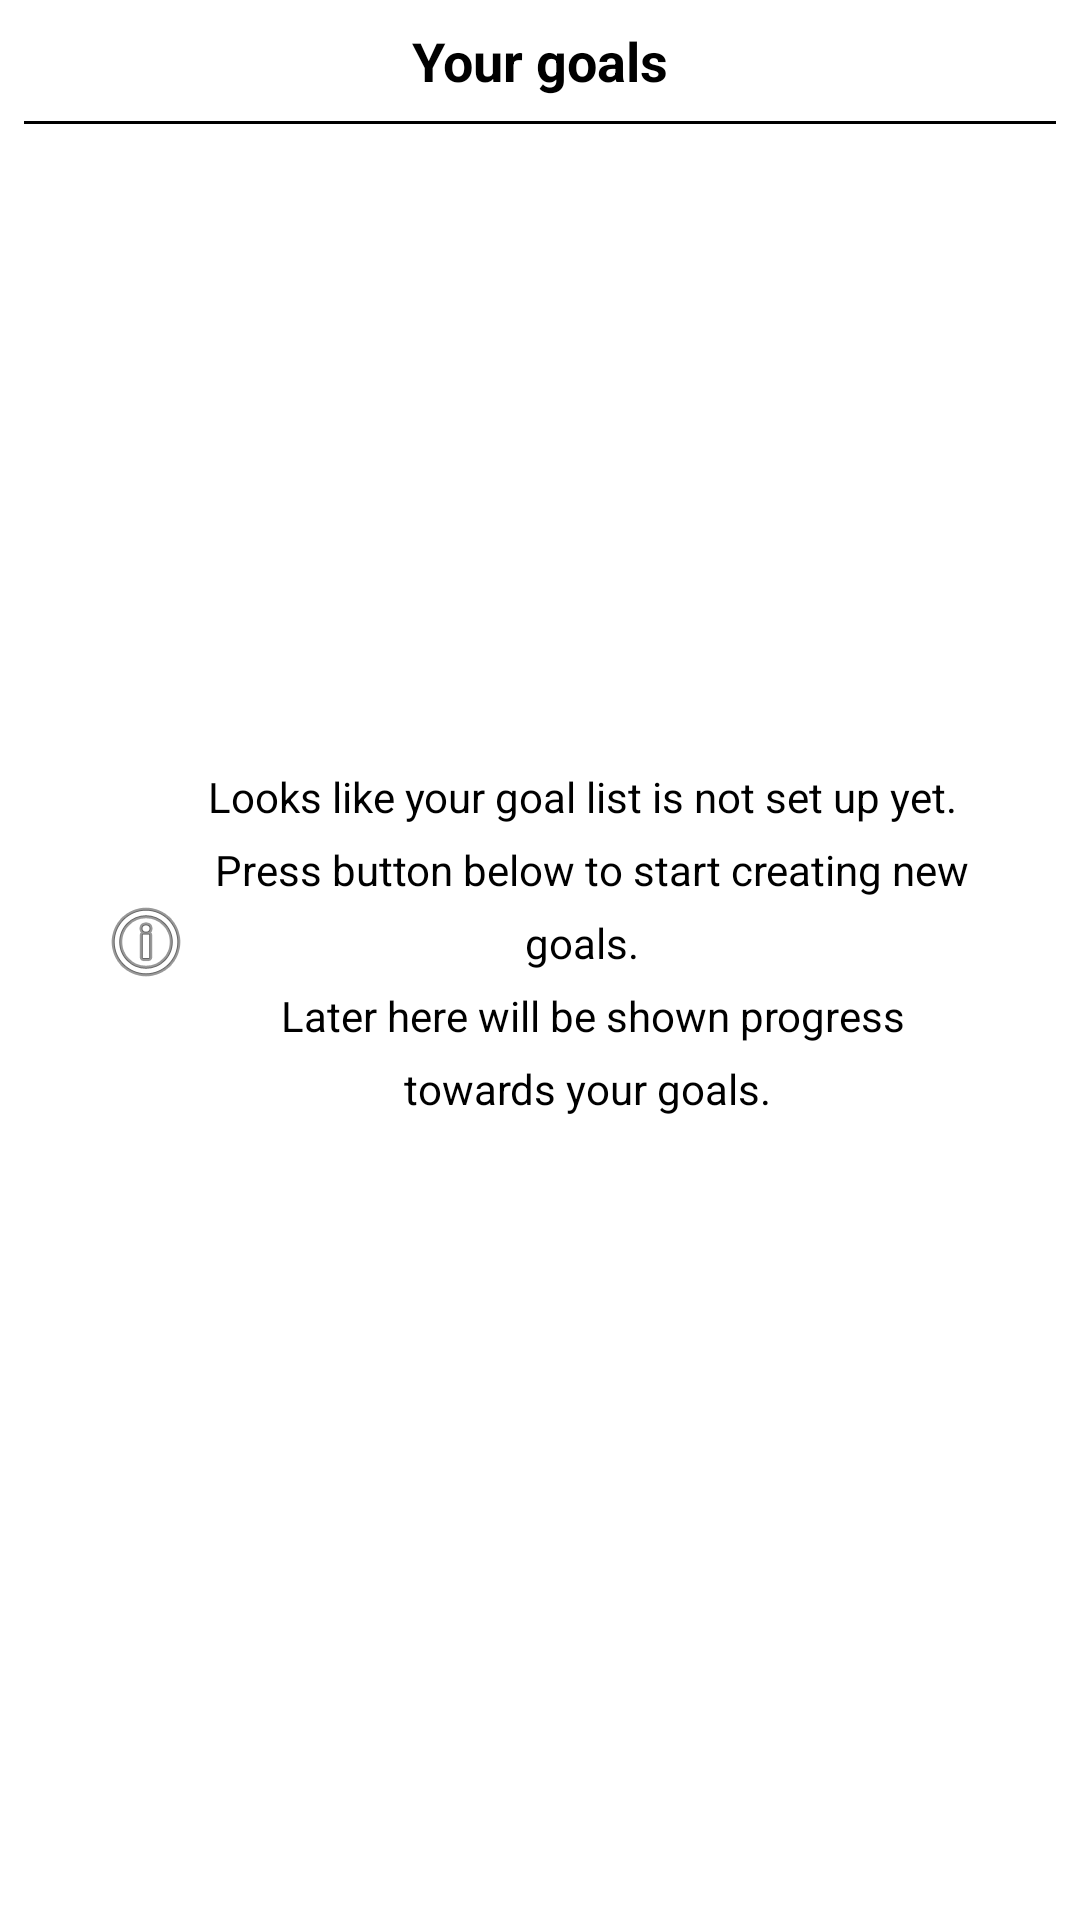

Where to tap for icons on this 1080w x 1920h app screen, as (x=x, y=y):
info details: (x=146, y=942)
